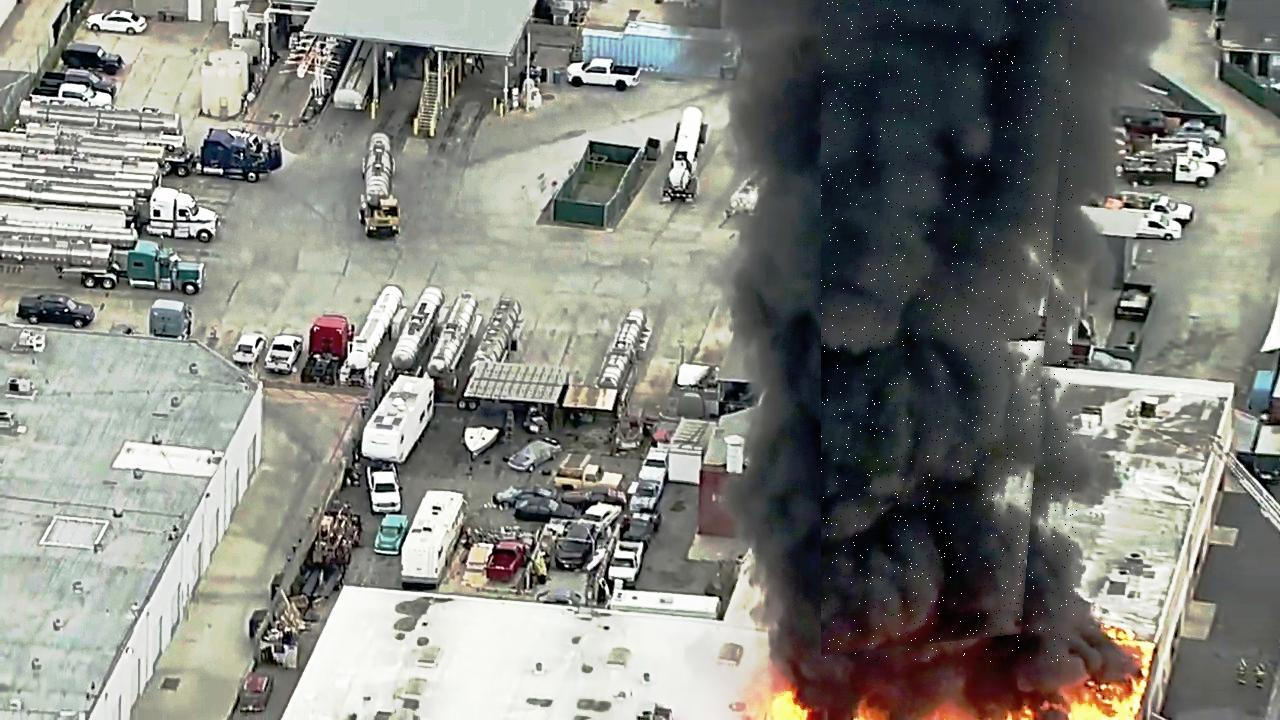fire: (822, 0, 1078, 662)
